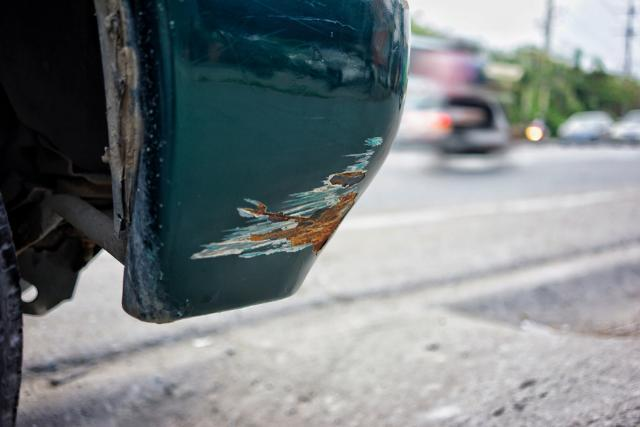Bumper: (175, 31, 389, 314)
